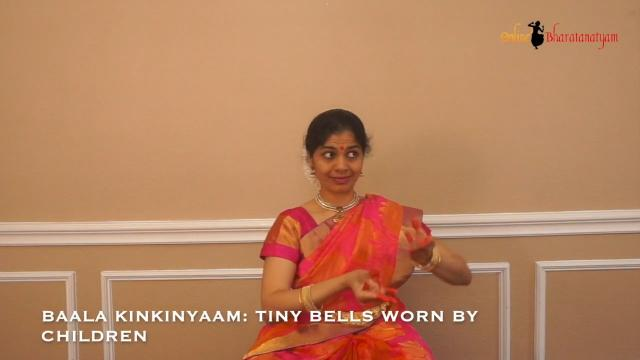kangul: (344, 248, 404, 314), (389, 215, 451, 277)
